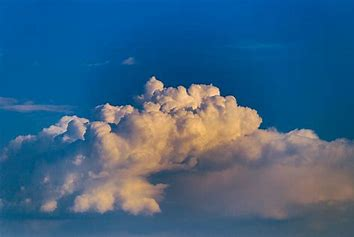Cumulus: (6, 72, 354, 225)
